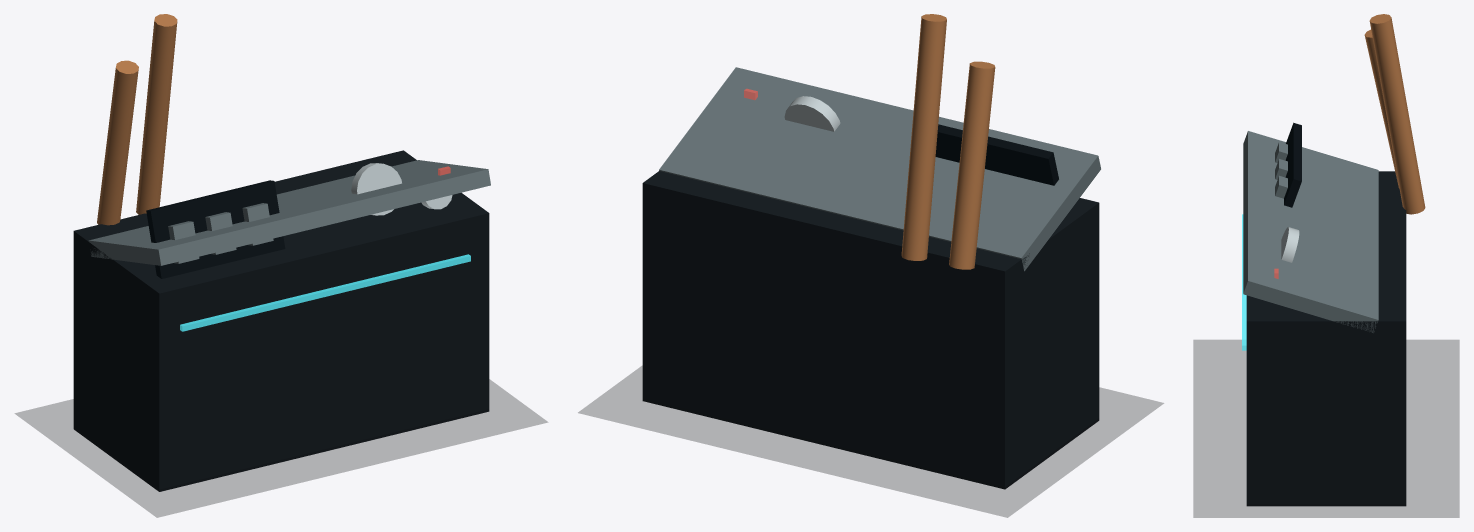
Rendered from hp_room_cyber_substation_console.glb.
3 renders of one model, left to right at view 1: azimuth 30°, elevation 25°; view 2: azimuth 150°, elevation 25°; view 3: azimuth 270°, elevation 25°, orthographic. The views are drawn at different scales.
Visible parts, largest first — view 1: console_body, contact_shadow, console_slope, breaker_bank, riser_b, riser_a, load_cyan, gauge_main; view 2: console_body, console_slope, contact_shadow, riser_b, riser_a, breaker_bank, gauge_main; view 3: console_body, contact_shadow, console_slope, riser_b, breaker_bank, riser_a, gauge_main, load_cyan.
Part boxes in pixels (bbox=[...]): console_body: bbox=[73, 150, 489, 491]; contact_shadow: bbox=[15, 379, 547, 517]; console_slope: bbox=[88, 160, 490, 265]; breaker_bank: bbox=[146, 180, 285, 278]; riser_b: bbox=[136, 14, 177, 214]; riser_a: bbox=[97, 60, 138, 225]; load_cyan: bbox=[180, 254, 470, 331]; gauge_main: bbox=[351, 163, 401, 215]; console_body: bbox=[642, 171, 1099, 489]; console_slope: bbox=[659, 67, 1100, 271]; contact_shadow: bbox=[578, 366, 1163, 517]; riser_b: bbox=[901, 14, 946, 260]; riser_a: bbox=[949, 61, 995, 269]; breaker_bank: bbox=[935, 124, 1058, 185]; gauge_main: bbox=[784, 96, 840, 131]; console_body: bbox=[1246, 171, 1406, 506]; contact_shadow: bbox=[1193, 340, 1459, 517]; console_slope: bbox=[1243, 131, 1378, 332]; riser_b: bbox=[1369, 14, 1425, 214]; breaker_bank: bbox=[1284, 122, 1301, 207]; riser_a: bbox=[1364, 29, 1399, 188]; gauge_main: bbox=[1281, 227, 1299, 262]; load_cyan: bbox=[1242, 214, 1246, 350].
Bounding box in the file's own units: 1.9 × 1.86 × 1.2.
